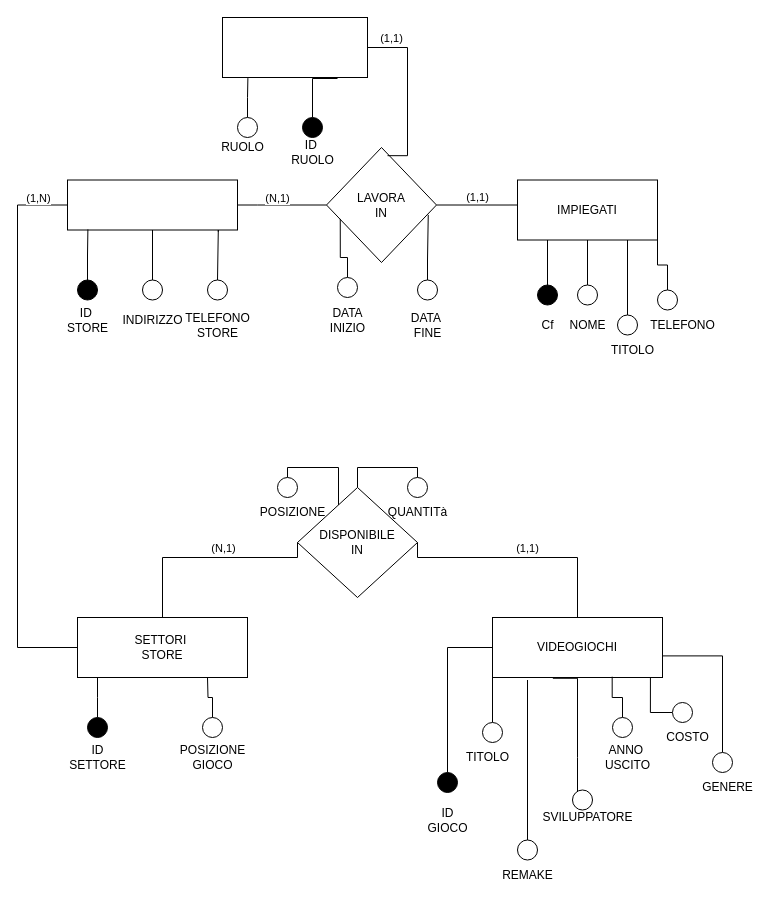
Some shapes in this 780 by 907 pixel diagram are drawn without their labels. The shapes that lost their labels are listed below. From the top down, each one's centre as x and y in pixels, then its label:
At [295,47]: "MANSIONE".
At [152,204]: "STORE".
